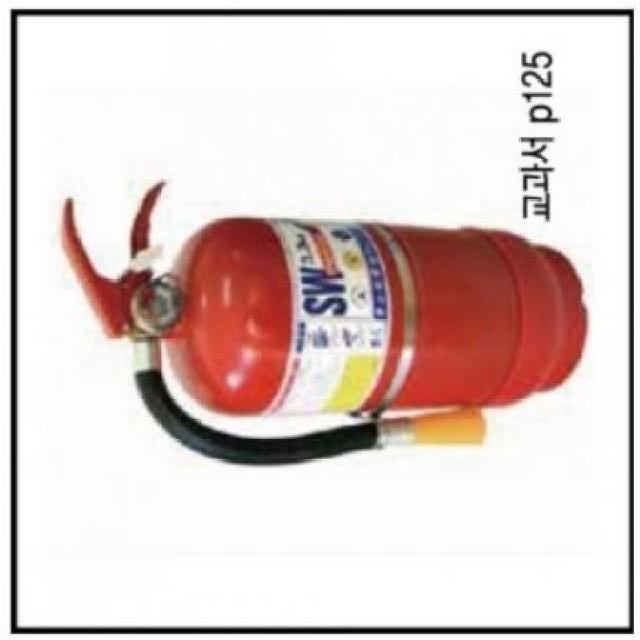fire extinguisher: (57, 181, 588, 468)
